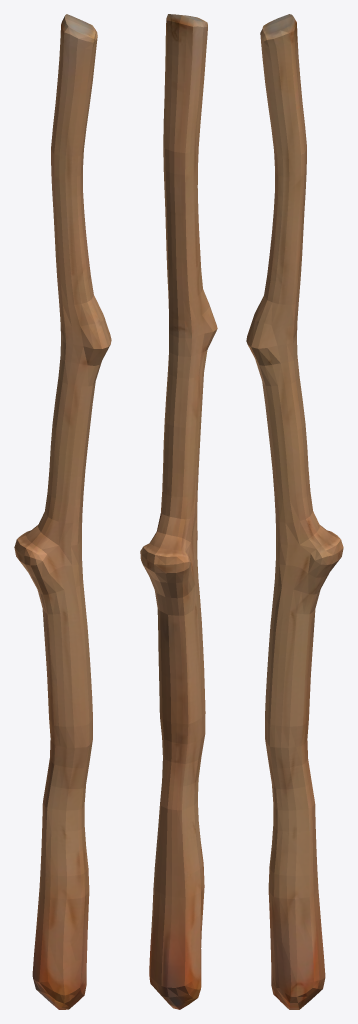
File: Stick.glb
The picture shows the model from 3 angles, left to right: view 1: azimuth 90°, elevation 25°; view 2: azimuth 150°, elevation 25°; view 3: azimuth 270°, elevation 25°; orthographic projection.
Visible parts, largest first — view 1: tripo_node_4ba74513-482e-4436-88b2-a1c54fe71c63; view 2: tripo_node_4ba74513-482e-4436-88b2-a1c54fe71c63; view 3: tripo_node_4ba74513-482e-4436-88b2-a1c54fe71c63.
Boxes of the visible parts, <box> form: tripo_node_4ba74513-482e-4436-88b2-a1c54fe71c63: <box>14,14,111,1009</box>; tripo_node_4ba74513-482e-4436-88b2-a1c54fe71c63: <box>140,14,217,1009</box>; tripo_node_4ba74513-482e-4436-88b2-a1c54fe71c63: <box>246,14,343,1009</box>.
Size of the model in its own units: 0.0498 by 0.9947 by 0.0884.
Materials: 1 (1 with a texture image).
